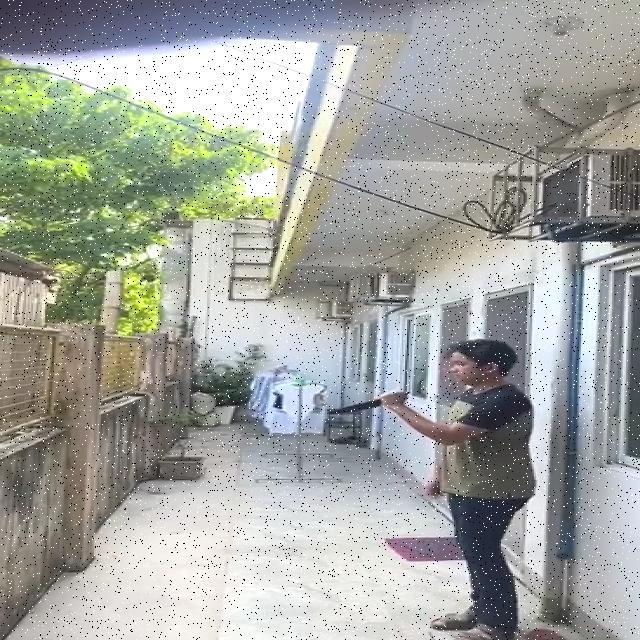knife: (328, 398, 382, 416)
non-violence: (326, 340, 535, 640)
